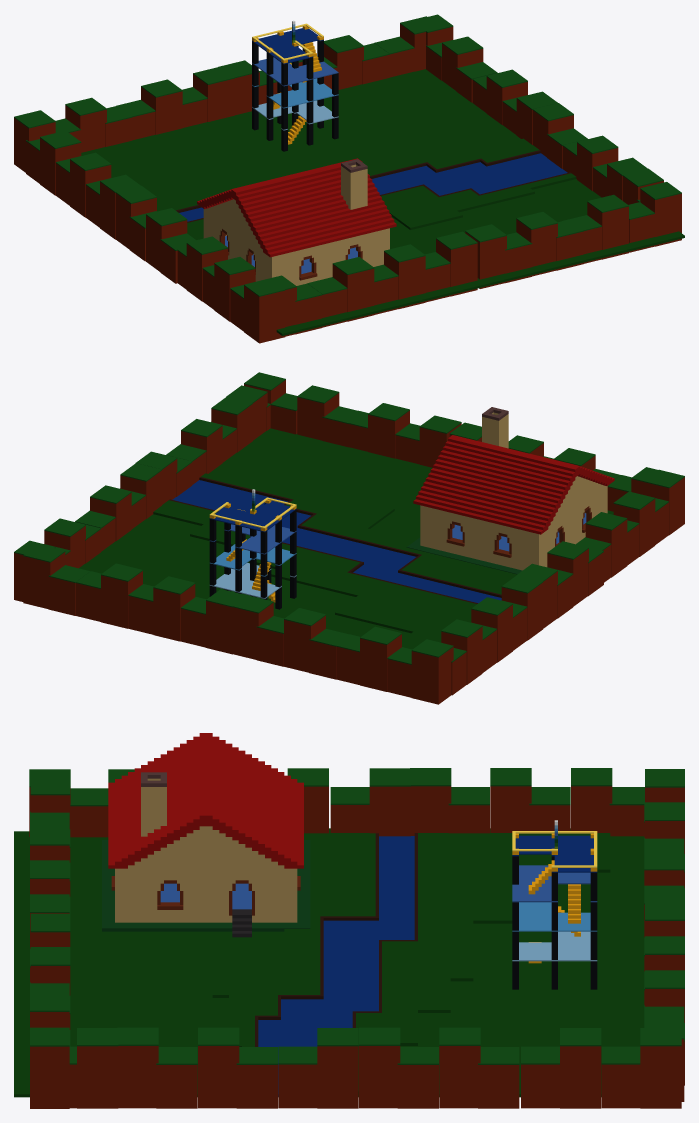
File: classic map.obj
3 views of the same model, one above another, from view 1: azimuth 30°, elevation 25°; view 2: azimuth 150°, elevation 25°; view 3: azimuth 270°, elevation 25° (orthographic). The views are drawn at different scales.
Visible parts, largest first — view 1: Part174, Part18, Part173, Part176, Part5, Part9, Part95, Part10, Part101, Part107, Part105, Part117 (+45 smaller); view 2: Part18, Part174, Part173, Part176, Part9, Part161, Part149, Part171, Part5, Part139, Part137, Part147 (+45 smaller); view 3: Part18, Part174, Part173, Part161, Part171, Part176, Part9, Part172, SmoothBlockModel186, Part167, Part119, Part125 (+100 smaller).
Boxes of the visible parts, x1,y1,x2,y2 form: Part174: (81,69,510,173); Part18: (276,179,684,335); Part173: (155,150,351,211); Part176: (131,154,251,194); Part5: (451,153,567,194); Part9: (380,186,462,229); Part95: (244,286,285,343); Part10: (413,162,506,195); Part101: (332,264,374,321); Part107: (436,239,477,296); Part105: (384,252,425,308); Part117: (640,189,681,246); Part18: (208,428,613,532); Part174: (79,524,410,639); Part173: (271,559,476,622); Part176: (335,595,455,638); Part9: (301,495,394,537); Part161: (282,524,415,571); Part149: (411,647,453,704); Part171: (402,555,513,594); Part5: (172,480,287,512); Part139: (153,584,195,641); Part137: (101,571,142,628); Part147: (360,634,401,691); Part18: (14,831,254,1097); Part174: (418,836,644,1097); Part173: (418,833,473,981); Part161: (323,921,378,1014); Part171: (320,828,375,916); Part176: (473,828,535,923); Part9: (212,960,320,997); Part172: (379,836,414,939); SmoothBlockModel186: (102,840,310,931); Part167: (382,941,417,1014); Part119: (77,1046,118,1108); Part125: (317,1046,358,1108).
Bounding box in the file's own units: 201 × 55.14 × 206.
